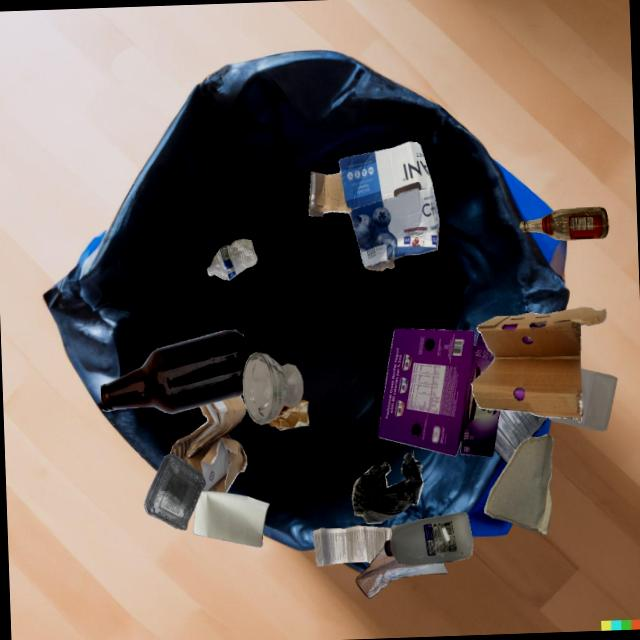cardboard: (308, 141, 439, 270), (471, 307, 606, 422), (378, 328, 499, 456), (168, 395, 247, 492), (484, 433, 553, 535)
glass: (100, 329, 248, 413), (242, 352, 303, 424), (520, 206, 608, 240)
paper: (355, 546, 448, 598), (192, 491, 269, 547), (312, 525, 396, 566), (268, 399, 309, 430)
plastic: (351, 450, 423, 523), (384, 512, 473, 566), (144, 453, 205, 530), (548, 368, 617, 431), (493, 410, 548, 463), (207, 238, 257, 280)
